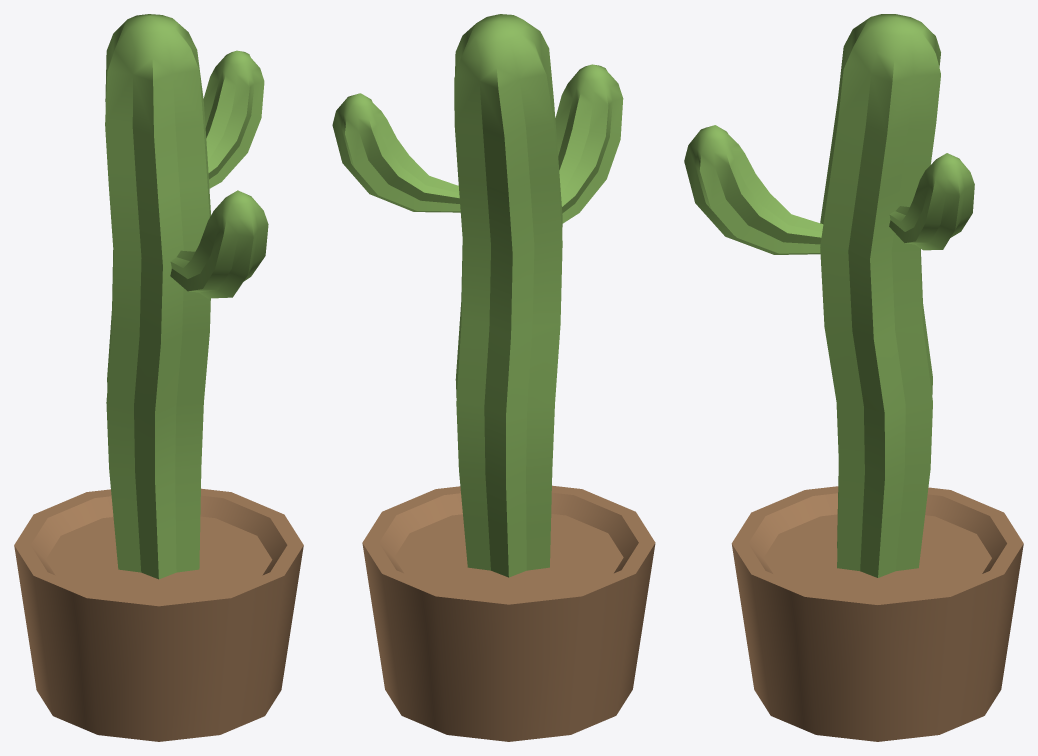
The model's file is cactus.fbx.
3 views of the same model, side by side, from view 1: azimuth 30°, elevation 25°; view 2: azimuth 150°, elevation 25°; view 3: azimuth 270°, elevation 25° (orthographic).
Visible parts, largest first — view 1: cactus; view 2: cactus; view 3: cactus.
Boxes of the visible parts, x1,y1,x2,y2 form: cactus: (14, 14, 303, 741); cactus: (332, 14, 655, 741); cactus: (684, 14, 1023, 741).
Size of the model in its own units: 25.81 by 63.44 by 29.04.
